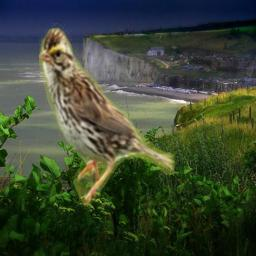Sparrow: (39, 23, 175, 207)
